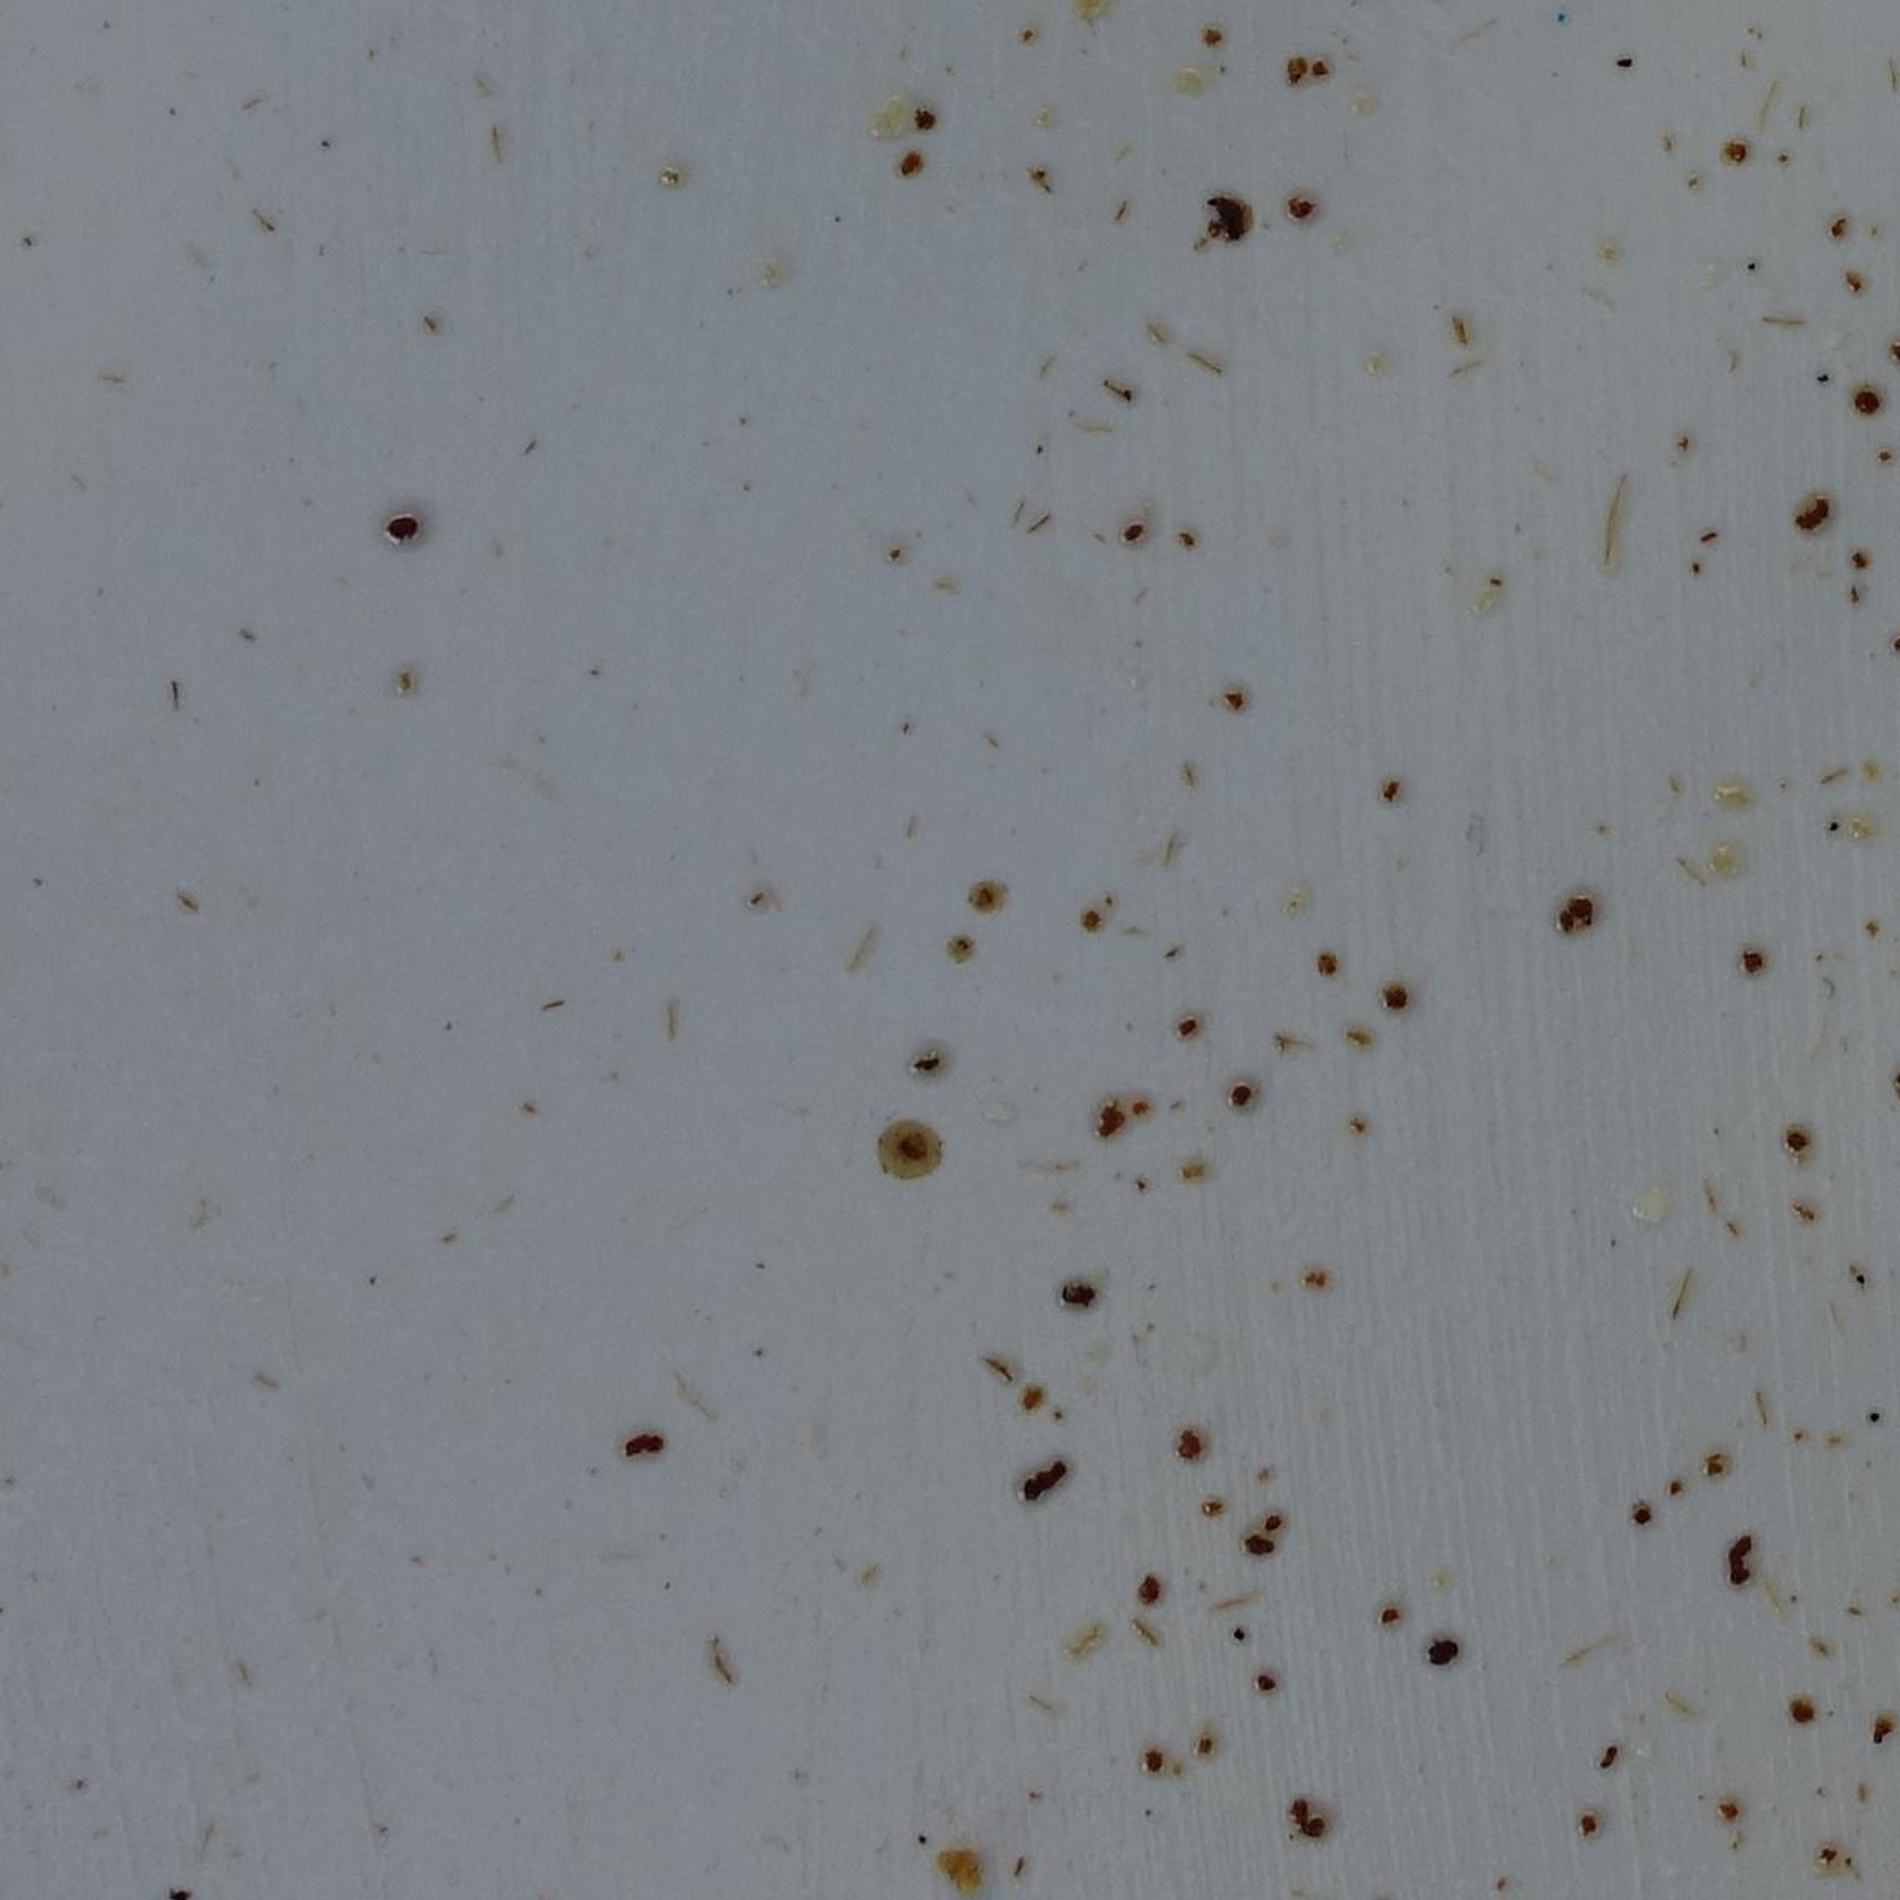Varroa: (391, 517, 412, 538), (1434, 1641, 1455, 1662)
